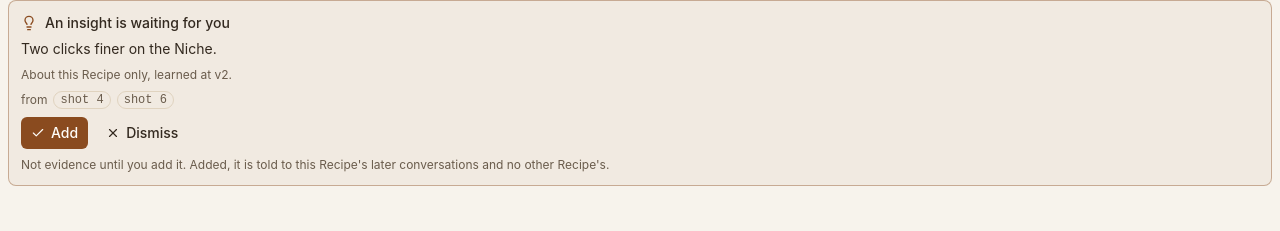
Test case: ChatInsightCard › says why a press failed
Click the button "Dismiss" at (142, 133), box [96,117,188,149]
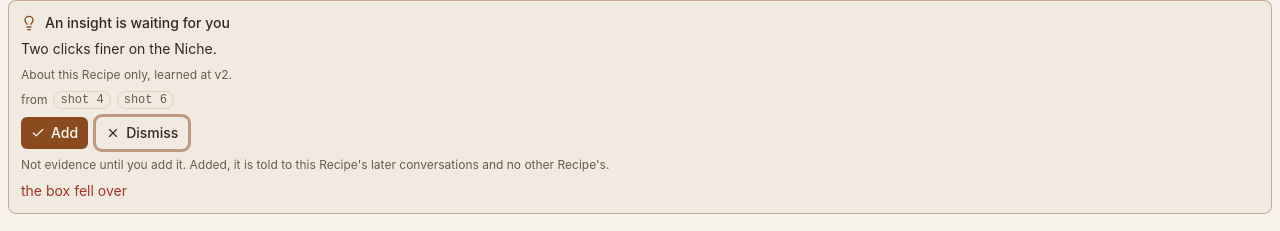
Check: the message with test id "chat-insight-error" reads "the box fell over", box [21,182,127,199]
